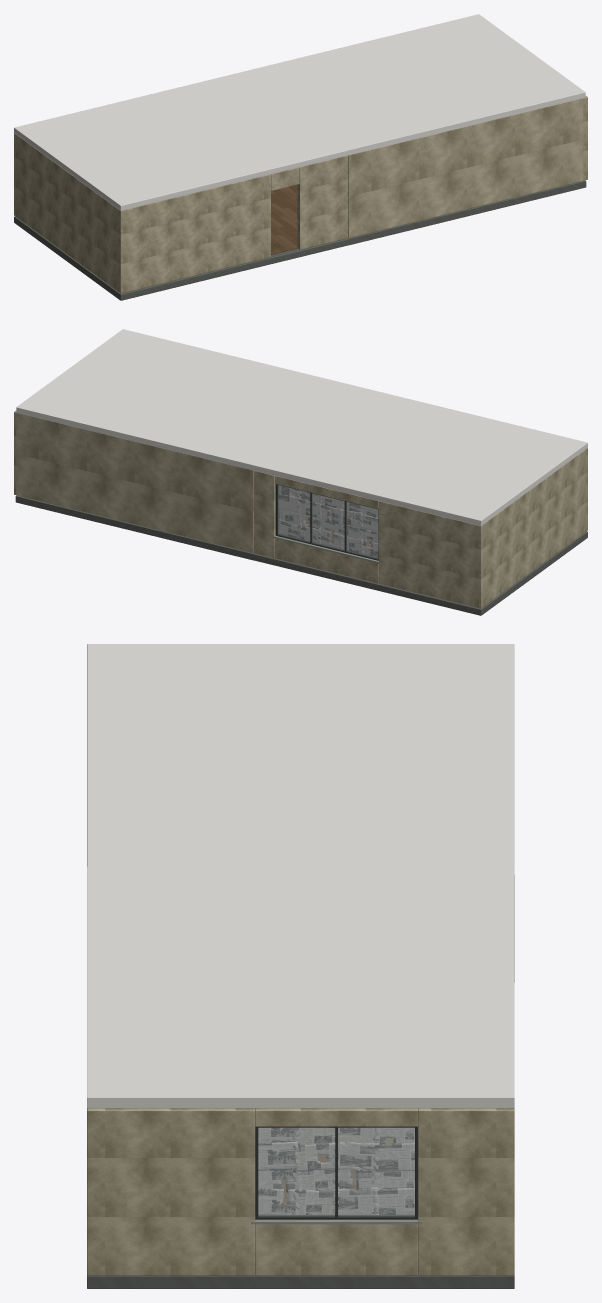
Rendered from studio_apartment.glb.
3 renders of one model, top to bottom at view 1: azimuth 30°, elevation 25°; view 2: azimuth 150°, elevation 25°; view 3: azimuth 270°, elevation 25°, orthographic. The views are drawn at different scales.
Visible parts, largest first — view 1: Bedroom complete ceiling, Complete ceiling slab, Bedroom south exterior, South entry / west wall, West exterior wall, South entry / east wall, Continuous structural floor slab, Bedroom structural slab, Oak floor | staggered individual boards, South entry / lintel, East exterior / southern pier; view 2: Bedroom complete ceiling, Complete ceiling slab, Bedroom north exterior, West exterior wall, North wall / bathroom and pier, Continuous structural floor slab, North window / below sill, Bedroom structural slab, North window / east pier, Living room picture window / glass pane 2, Living room picture window / glass pane 1, Living room picture window / glass pane 3 (+1 smaller); view 3: Bedroom complete ceiling, Complete ceiling slab, East exterior / southern pier, East exterior / northern pier, East window / below sill, Side window / glass pane 1, Side window / glass pane 2, Bedroom structural slab, East window / lintel, Side window / newspaper clipping 12, Side window / newspaper clipping 09, Side window / newspaper clipping 11 (+6 smaller).
Part boxes in pixels (bbox=[...]): Bedroom complete ceiling: bbox=[242, 14, 585, 155]; Complete ceiling slab: bbox=[14, 72, 350, 210]; Bedroom south exterior: bbox=[348, 97, 585, 237]; South entry / west wall: bbox=[124, 174, 270, 292]; West exterior wall: bbox=[14, 133, 125, 293]; South entry / east wall: bbox=[297, 155, 348, 249]; Continuous structural floor slab: bbox=[14, 216, 348, 300]; Bedroom structural slab: bbox=[348, 180, 586, 245]; Oak floor | staggered individual boards: bbox=[271, 189, 297, 254]; South entry / lintel: bbox=[271, 167, 299, 190]; East exterior / southern pier: bbox=[583, 96, 587, 180]; Bedroom complete ceiling: bbox=[16, 329, 359, 470]; Complete ceiling slab: bbox=[251, 387, 587, 525]; Bedroom north exterior: bbox=[16, 412, 253, 552]; West exterior wall: bbox=[476, 448, 587, 608]; North wall / bathroom and pier: bbox=[379, 501, 478, 607]; Continuous structural floor slab: bbox=[251, 531, 587, 615]; North window / below sill: bbox=[274, 538, 378, 583]; Bedroom structural slab: bbox=[15, 495, 253, 560]; North window / east pier: bbox=[253, 470, 275, 557]; Living room picture window / glass pane 2: bbox=[312, 493, 344, 550]; Living room picture window / glass pane 1: bbox=[346, 502, 378, 558]; Living room picture window / glass pane 3: bbox=[278, 485, 309, 541]; Bedroom complete ceiling: bbox=[87, 866, 514, 1108]; Complete ceiling slab: bbox=[87, 644, 514, 868]; East exterior / southern pier: bbox=[87, 1108, 255, 1275]; East exterior / northern pier: bbox=[418, 1108, 514, 1275]; East window / below sill: bbox=[255, 1224, 417, 1275]; Side window / glass pane 1: bbox=[258, 1128, 334, 1215]; Side window / glass pane 2: bbox=[338, 1128, 414, 1215]; Bedroom structural slab: bbox=[87, 1275, 514, 1288]; East window / lintel: bbox=[255, 1108, 417, 1126]; Side window / newspaper clipping 12: bbox=[372, 1142, 414, 1172]; Side window / newspaper clipping 09: bbox=[258, 1142, 299, 1170]; Side window / newspaper clipping 11: bbox=[332, 1142, 379, 1170].
Bounding box in the file's own units: 16.57 × 3.23 × 6.57.
17 materials, 11 textured.
